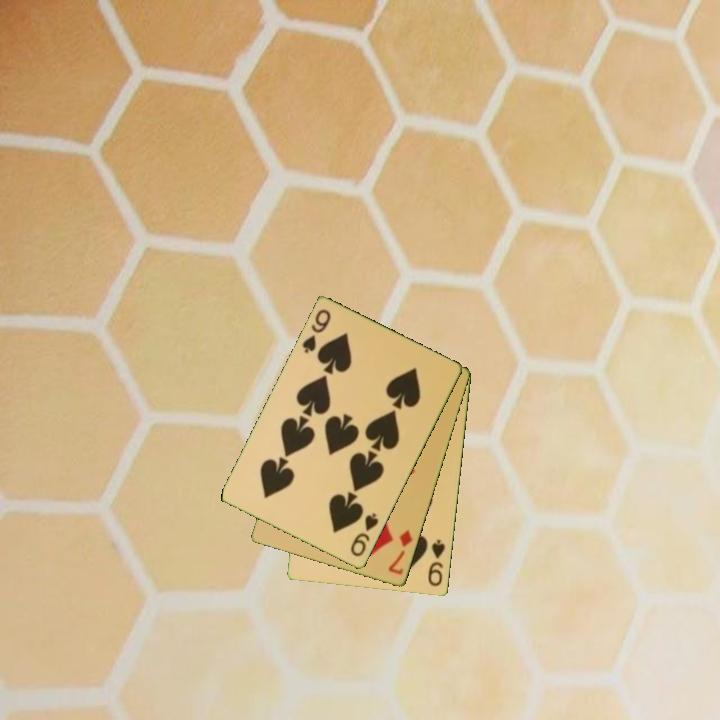7d: (385, 527, 416, 578)
9s: (299, 306, 334, 357), (347, 510, 382, 560), (425, 536, 448, 589)
